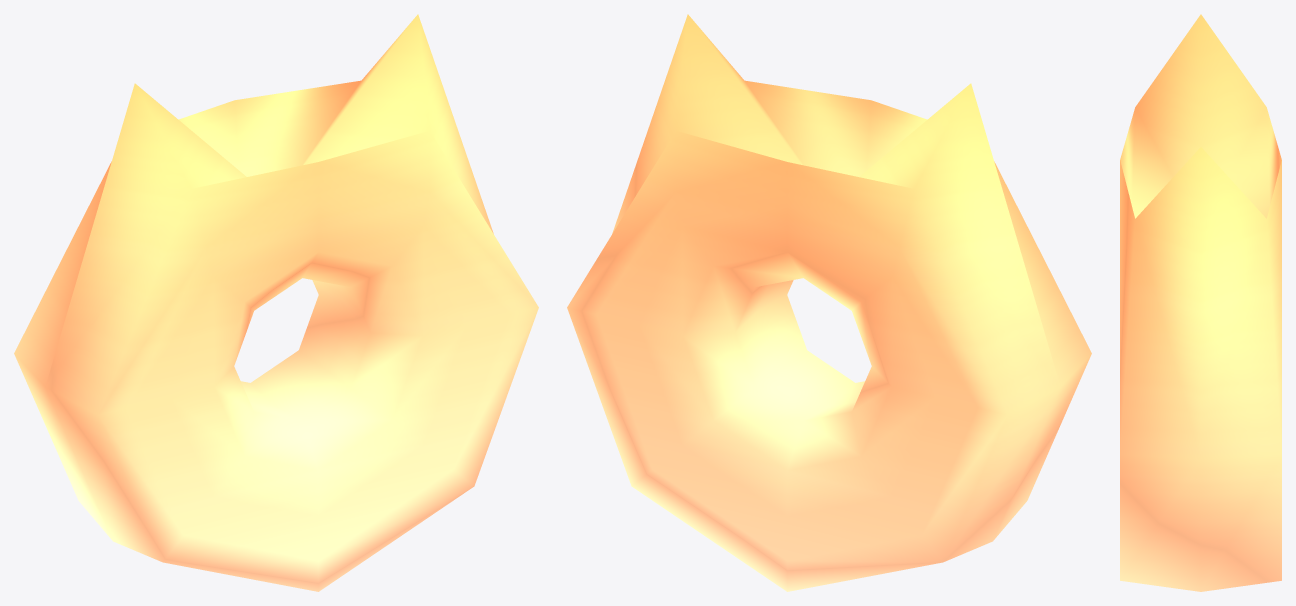
File: wood_grip_117_004.glb
The picture shows the model from 3 angles, left to right: view 1: azimuth 30°, elevation 25°; view 2: azimuth 150°, elevation 25°; view 3: azimuth 270°, elevation 25°; orthographic projection. The views are drawn at different scales.
Parts seen in each view (by area): view 1: wood_grip_117.004; view 2: wood_grip_117.004; view 3: wood_grip_117.004.
Boxes of the visible parts, left/top/right/bottom form: wood_grip_117.004: left=14, top=14, right=538, bottom=591; wood_grip_117.004: left=567, top=14, right=1091, bottom=591; wood_grip_117.004: left=1120, top=14, right=1281, bottom=591.
Bounding box in the file's own units: 3.2 × 3.46 × 1.01.
Materials: 1 (1 with a texture image).
